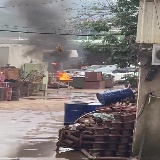fire: (57, 71, 73, 80)
